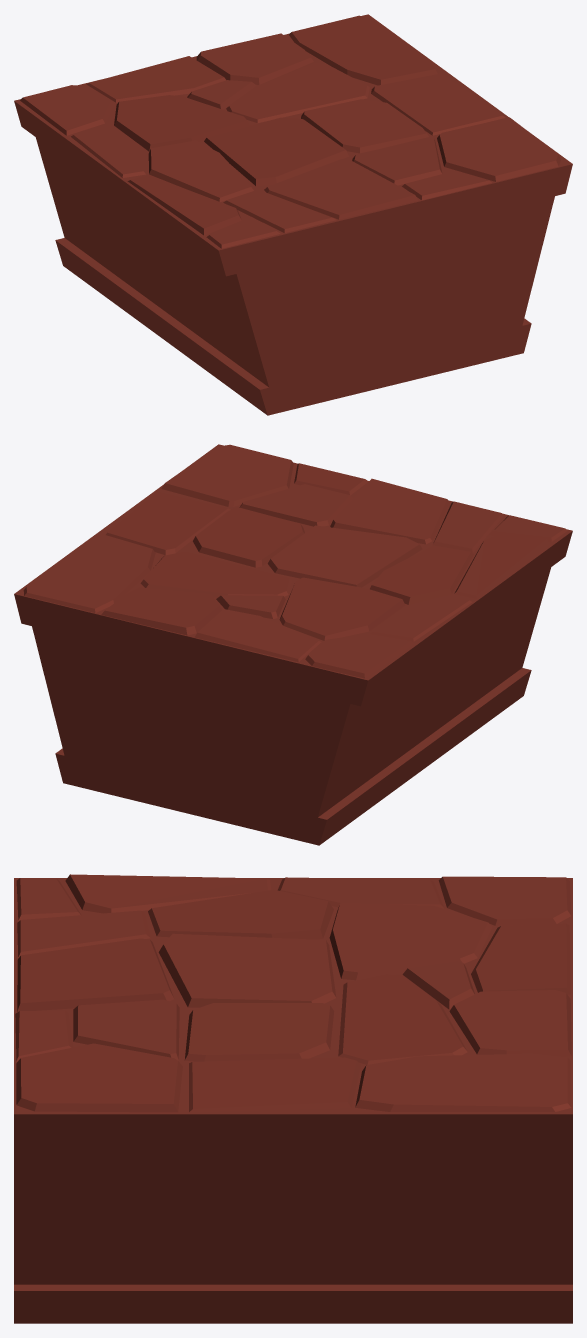
Rendered from platform_003.fbx.
The picture shows the model from 3 angles, top to bottom: view 1: azimuth 30°, elevation 25°; view 2: azimuth 150°, elevation 25°; view 3: azimuth 270°, elevation 25°; orthographic projection. The views are drawn at different scales.
Visible parts, largest first — view 1: platform_003; view 2: platform_003; view 3: platform_003.
Part boxes in pixels (left/top/right/bottom): platform_003: left=14, top=14, right=572, bottom=415; platform_003: left=14, top=444, right=572, bottom=845; platform_003: left=14, top=874, right=572, bottom=1323.
Bounding box in the file's own units: 500 × 500 × 248.
